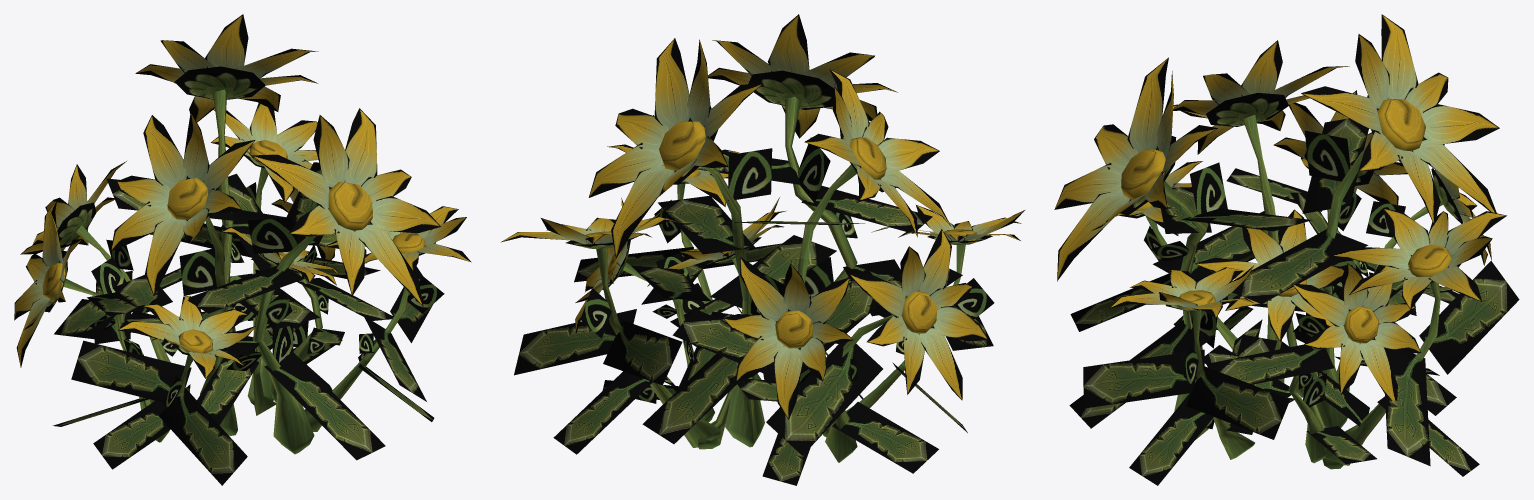
The model's file is Flower 2.fbx.
3 renders of one model, left to right at view 1: azimuth 30°, elevation 25°; view 2: azimuth 150°, elevation 25°; view 3: azimuth 270°, elevation 25°, orthographic. The views are drawn at different scales.
Visible parts, largest first — view 1: node_id30; view 2: node_id30; view 3: node_id30.
Boxes of the visible parts, box(x1,y1,x2,y2) form: node_id30: box(14, 14, 471, 485); node_id30: box(501, 14, 1024, 485); node_id30: box(1054, 14, 1519, 485).
Bounding box in the file's own units: 0.512 × 0.4791 × 0.4674.
Materials: 1 (1 with a texture image).
